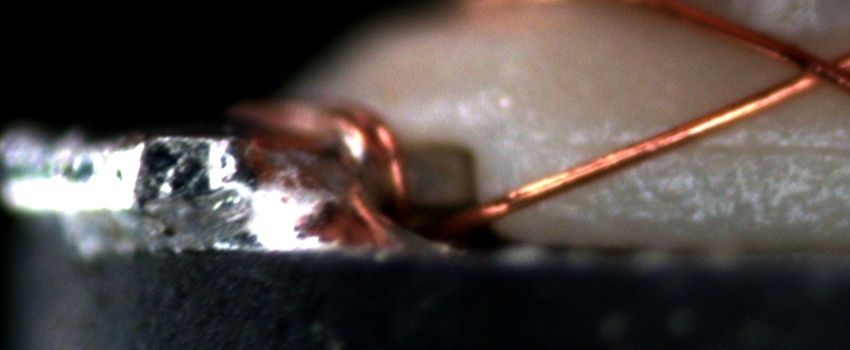CL: (770, 39, 847, 99)
DL: (535, 113, 850, 177)
TE: (256, 90, 417, 208)
